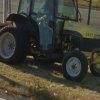Tractor: (8, 6, 93, 83)
